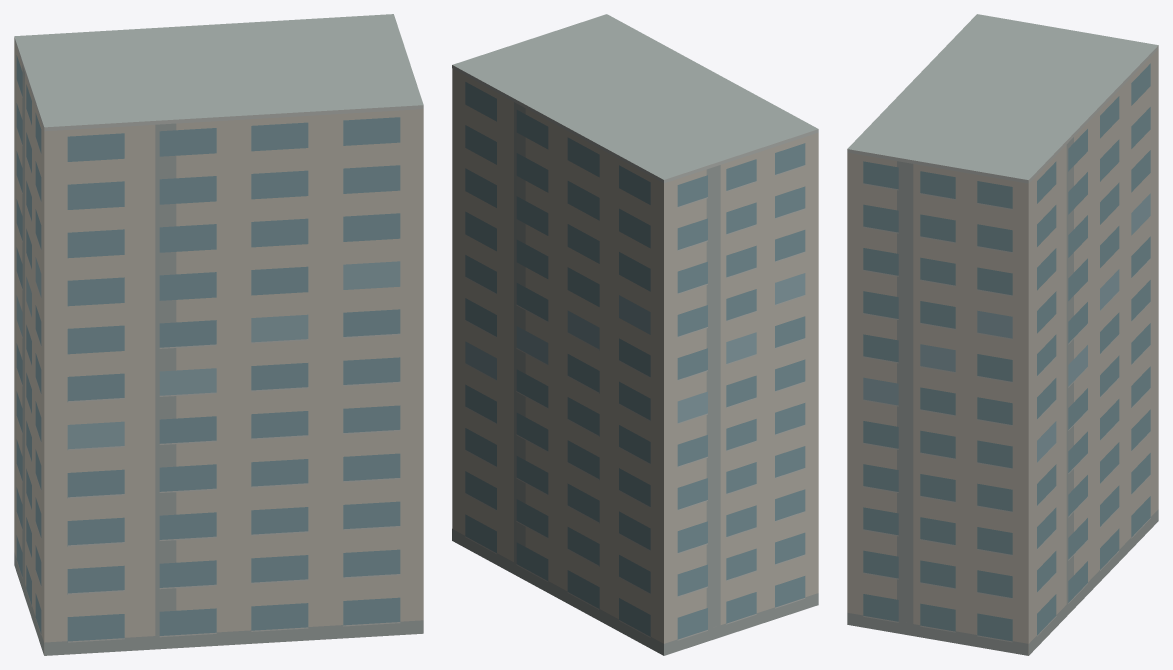
File: residential-1a51820b-e9db-4865-aa4b-f6e038ac809d.glb
3 renders of one model, left to right at view 1: azimuth 30°, elevation 25°; view 2: azimuth 150°, elevation 25°; view 3: azimuth 270°, elevation 25°, orthographic. The views are drawn at different scales.
Visible parts, largest first — view 1: residential-1a51820b-e9db-4865-aa4b-f6e038ac809d.tmp; view 2: residential-1a51820b-e9db-4865-aa4b-f6e038ac809d.tmp; view 3: residential-1a51820b-e9db-4865-aa4b-f6e038ac809d.tmp.
Boxes of the visible parts, box(x1,y1,x2,y2) form: residential-1a51820b-e9db-4865-aa4b-f6e038ac809d.tmp: box(14, 14, 423, 655); residential-1a51820b-e9db-4865-aa4b-f6e038ac809d.tmp: box(452, 14, 818, 655); residential-1a51820b-e9db-4865-aa4b-f6e038ac809d.tmp: box(847, 14, 1158, 655).
Size of the model in its own units: 24.73 by 33 by 19.59.
